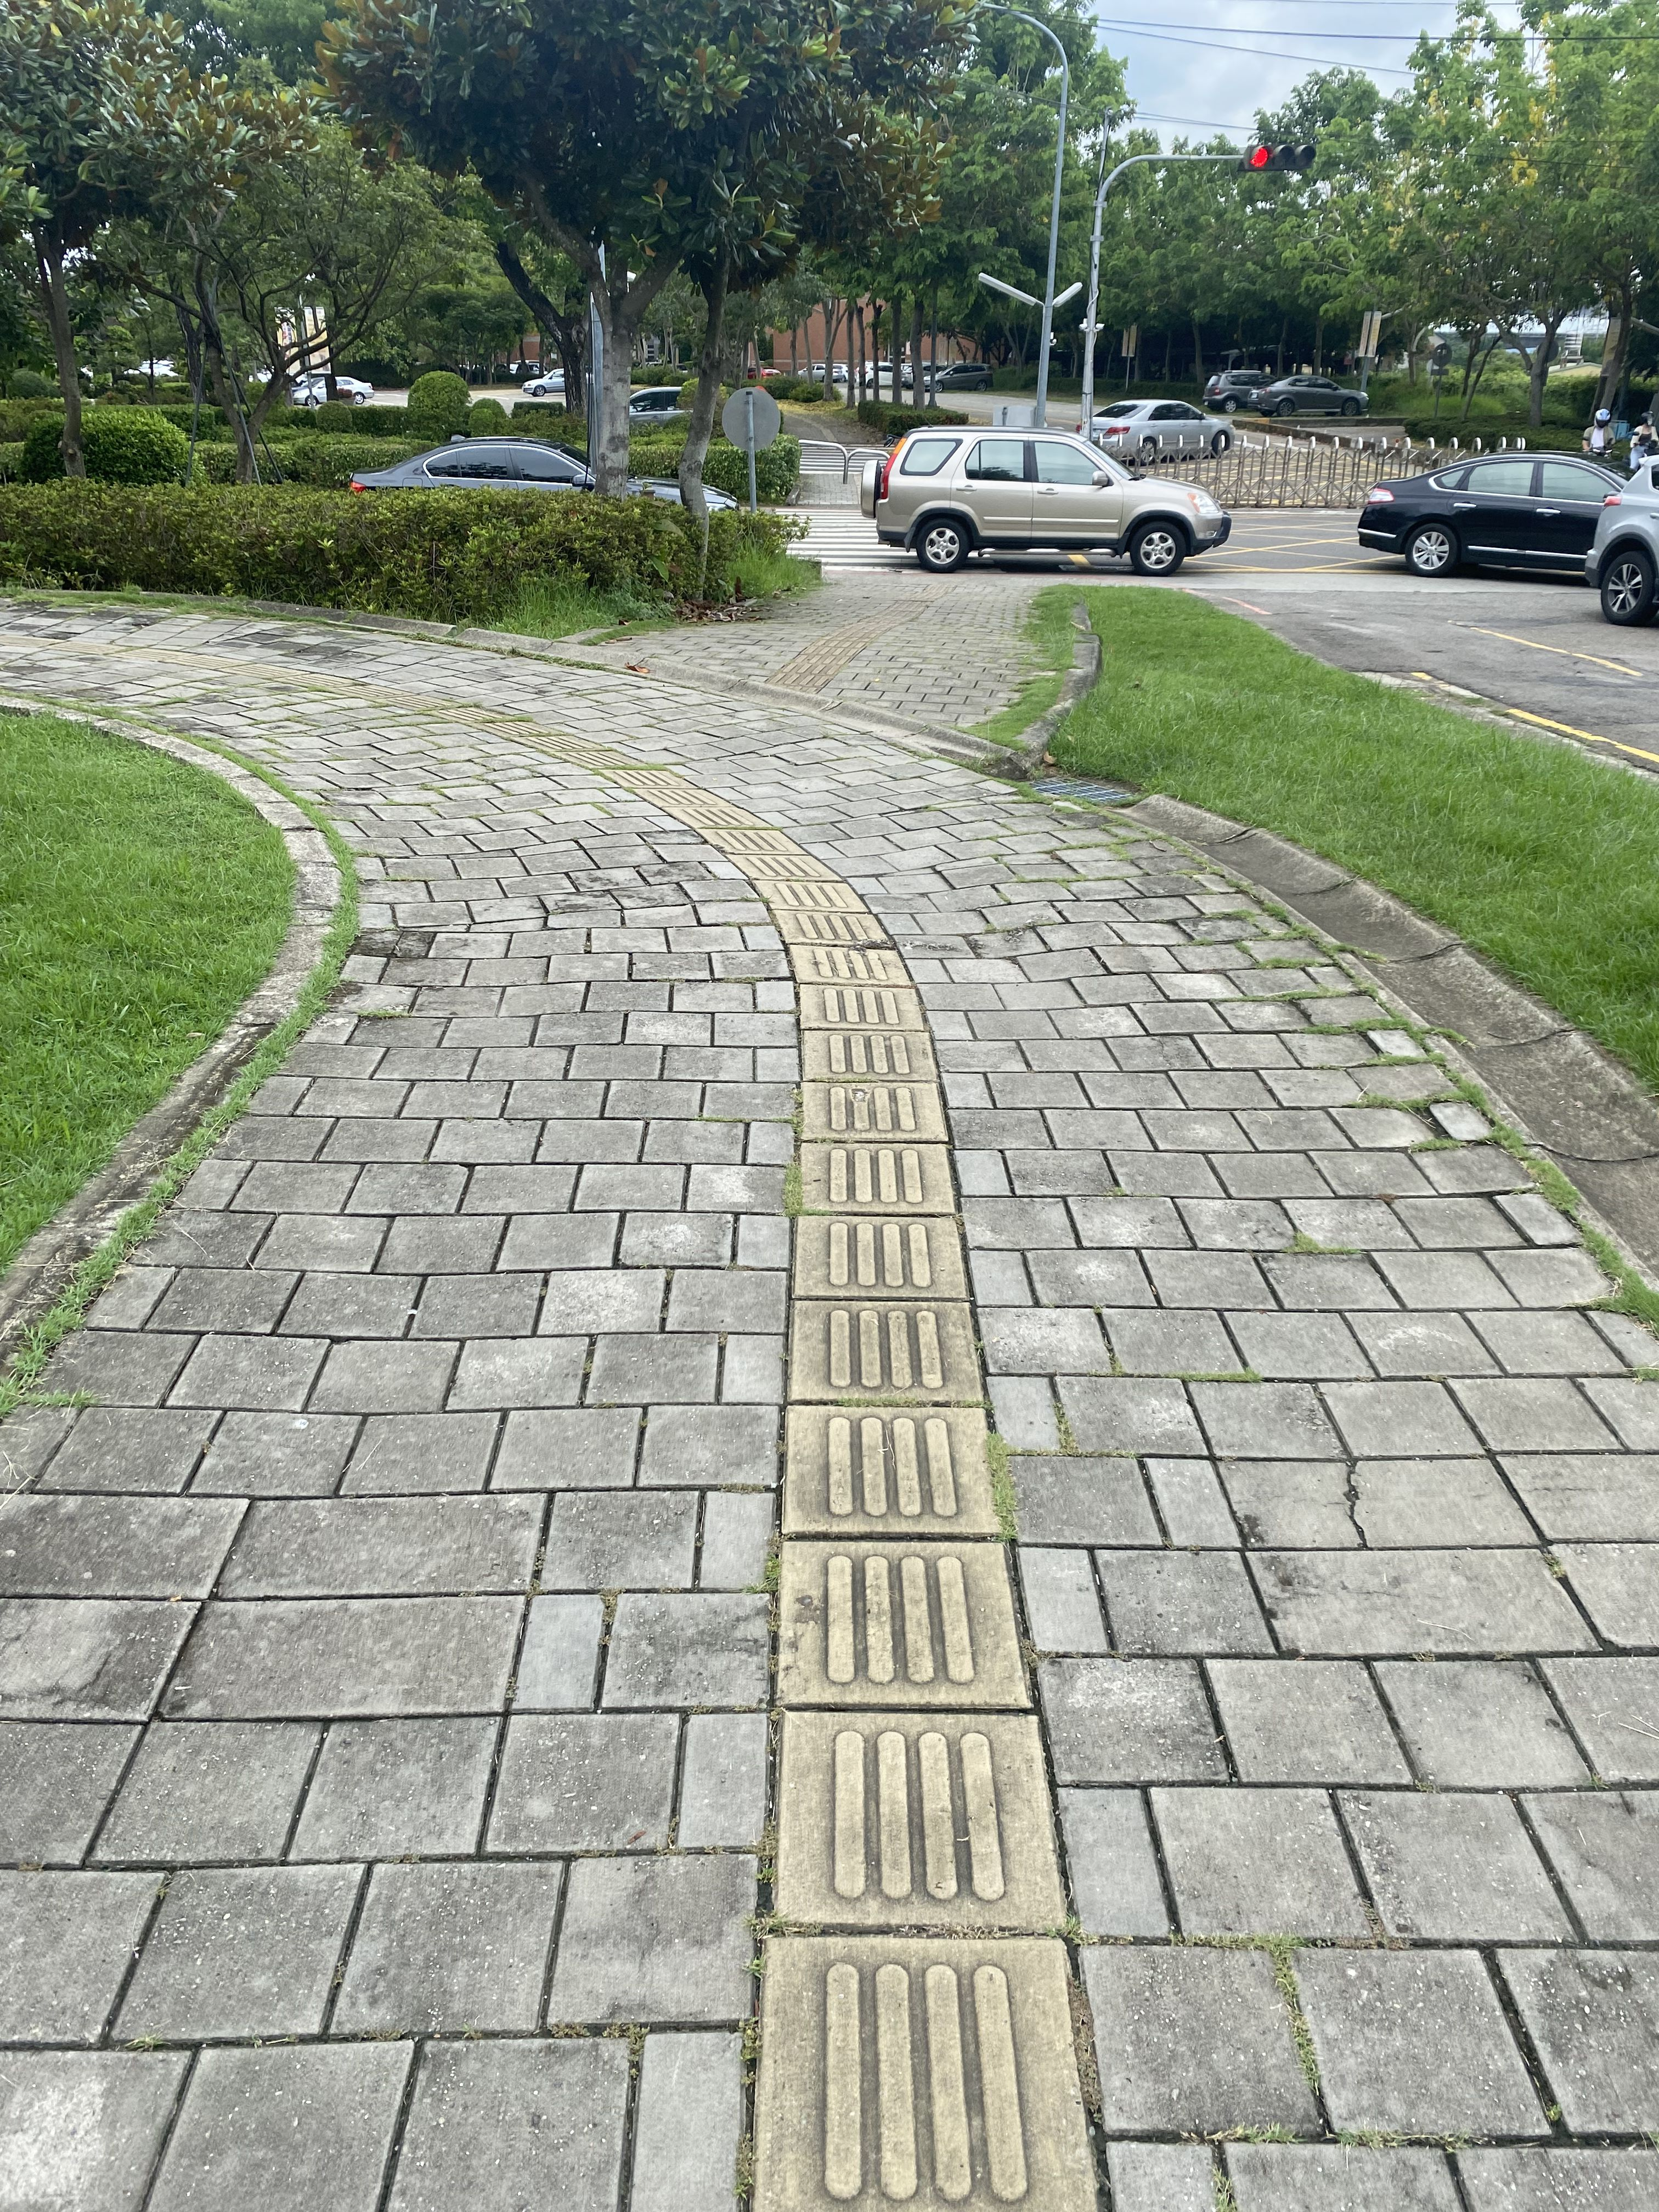sidewalk: (5, 570, 1659, 2212)
